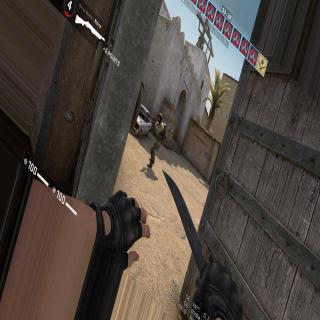CT-Body: (149, 113, 166, 167)
CT-Head: (157, 113, 162, 122)
